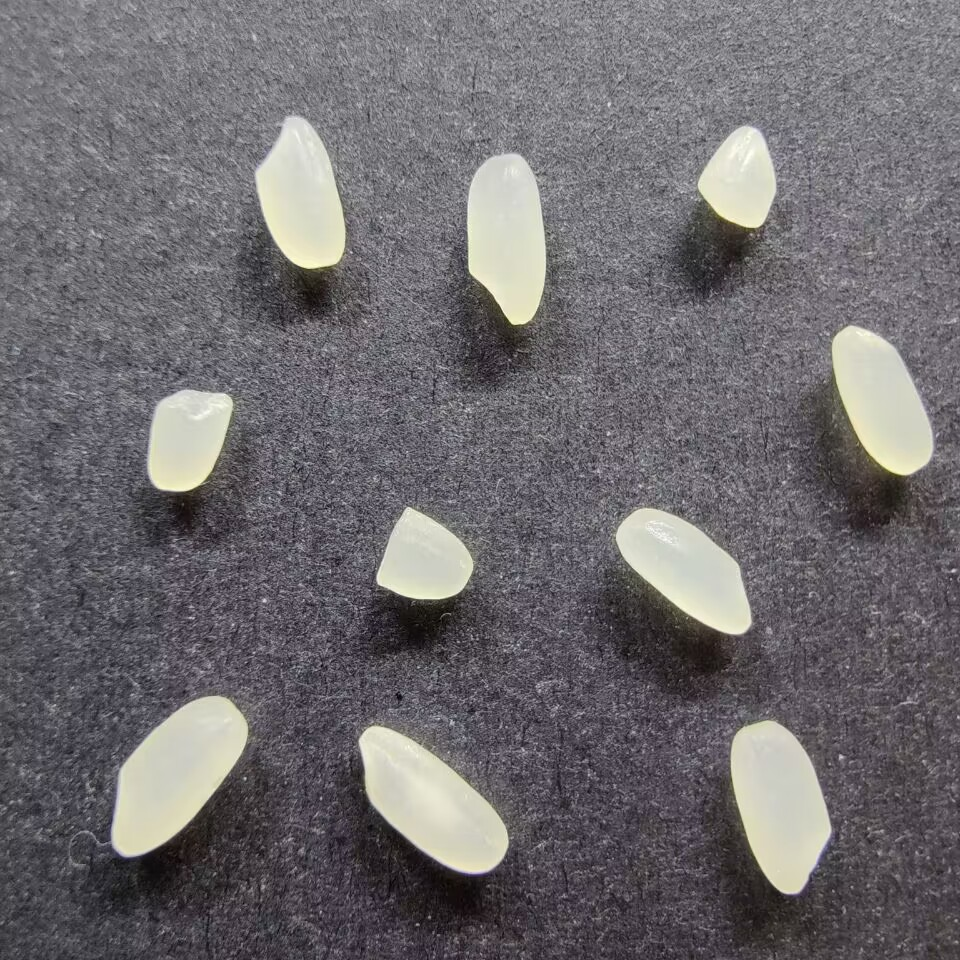broken: (374, 502, 476, 602), (144, 386, 234, 494), (694, 123, 779, 230)
rice: (355, 723, 509, 876), (108, 693, 249, 858), (727, 718, 833, 898), (613, 505, 754, 636), (829, 322, 934, 476), (252, 113, 346, 270), (464, 151, 547, 326)
